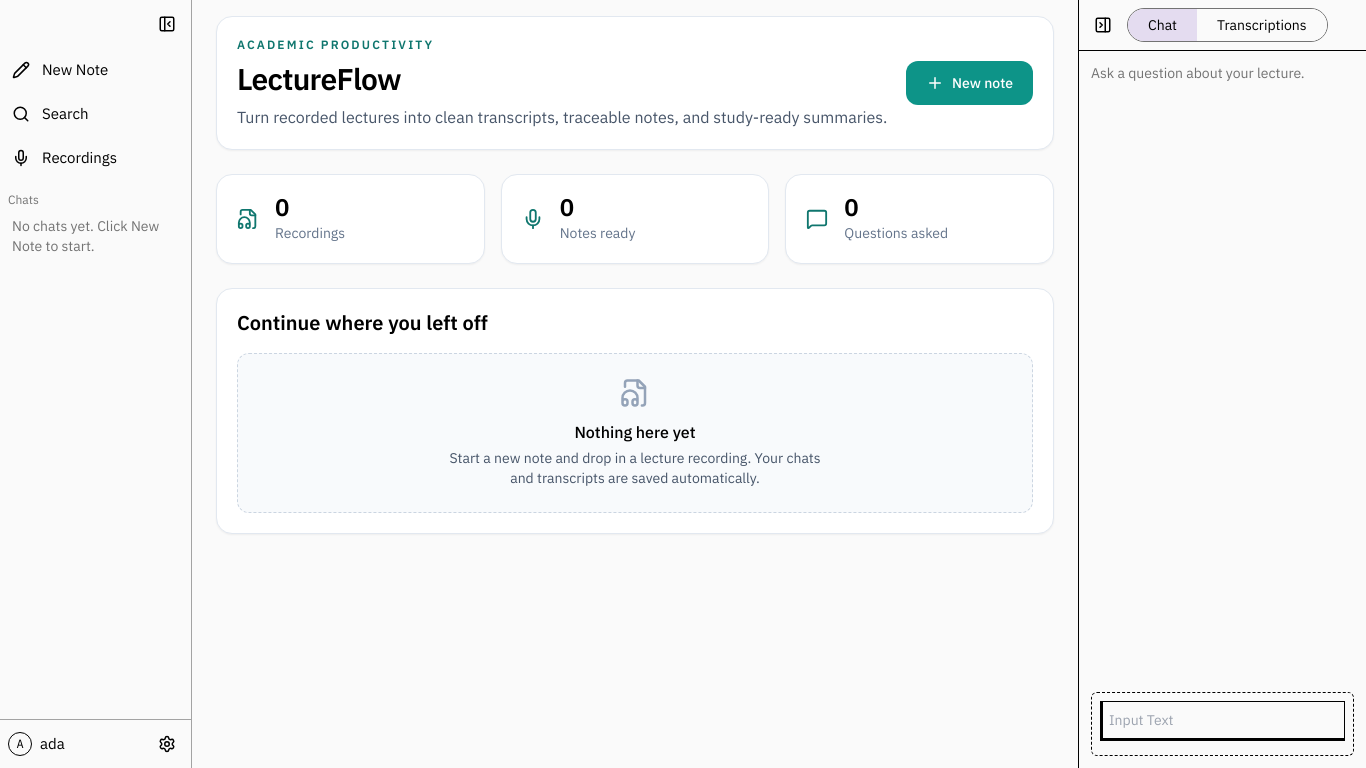
Test: chats: live list, delete, persistence › Search and Recordings are separate pages
What coordinates should you click on to do the following:
click the link "Search"
I would click on:
 (50, 113)
Its box is x1=12 y1=104 x2=88 y2=123.
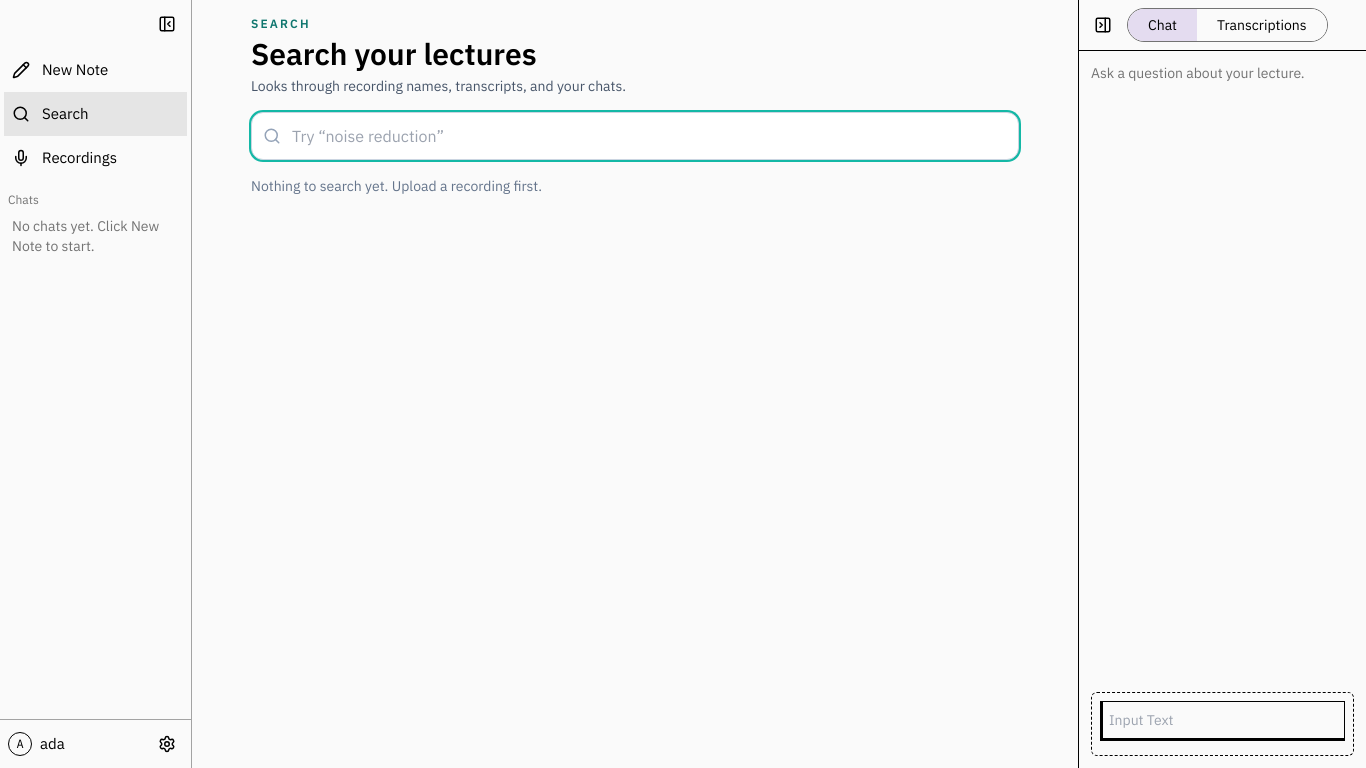
Expected: the heading "Search your lectures" is shown, x1=251 y1=34 x2=537 y2=73
What coordinates should you click on to do the following:
click the link "Recordings"
I would click on:
 (65, 157)
Its box is x1=12 y1=148 x2=117 y2=167.
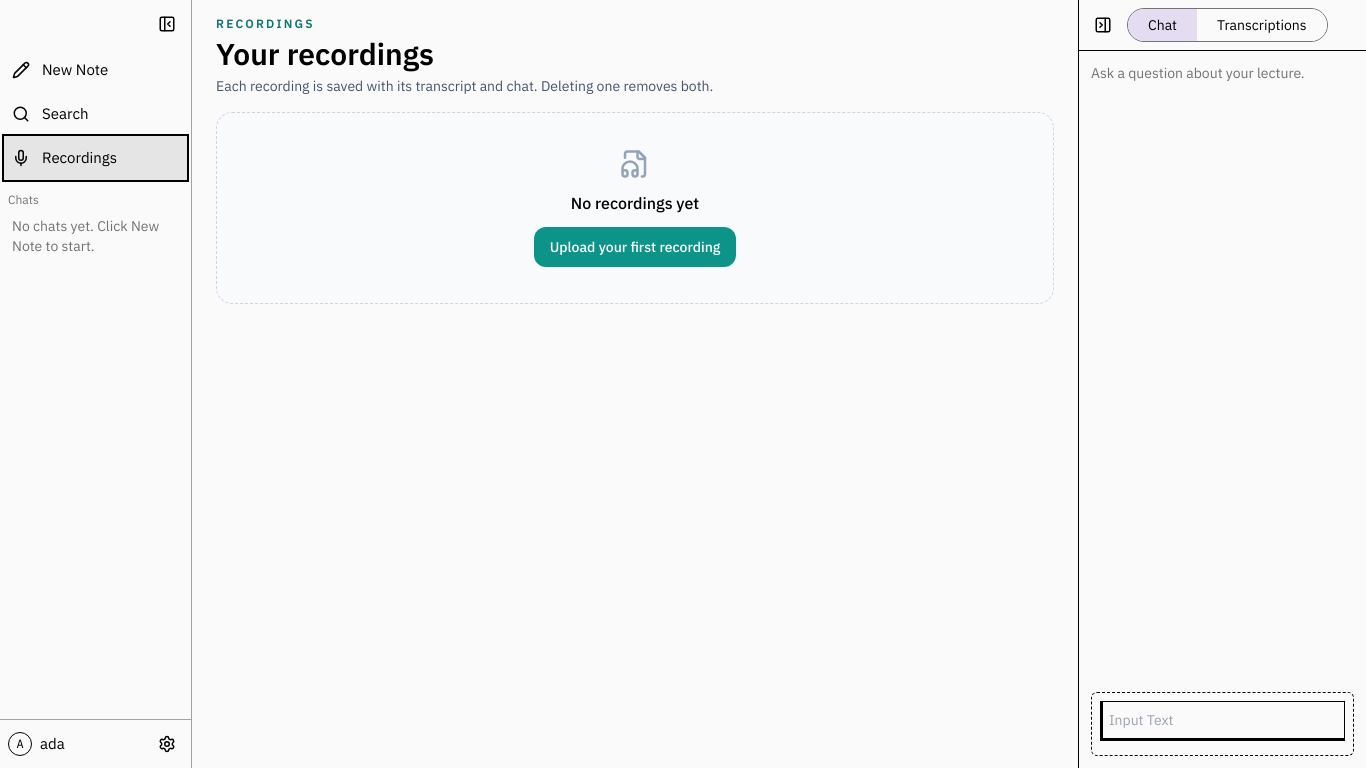
Expected: the heading "Your recordings" is shown, x1=216 y1=34 x2=434 y2=73
